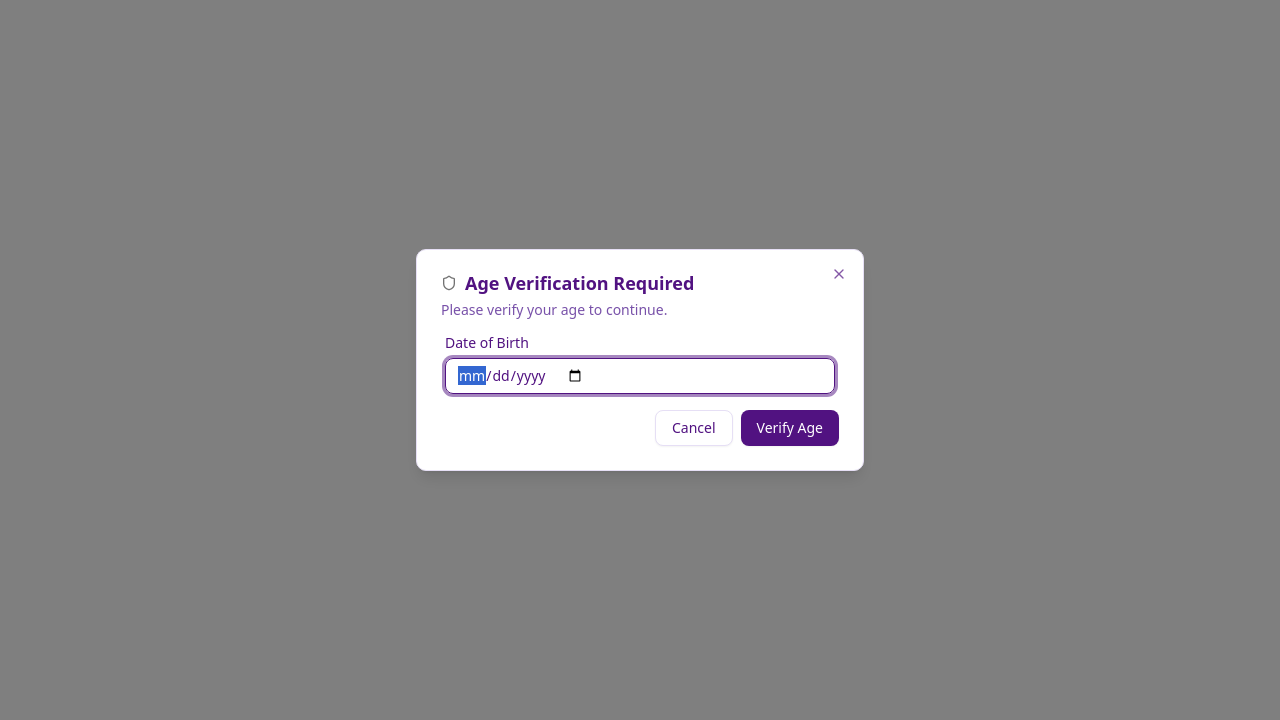
Test case: AgeGate › shows error for empty birthdate
The width and height of the screenshot is (1280, 720).
Don't enter any date, just click verify
Step 1. Click the button "Verify Age" → [790, 428], box [740,410,839,446]
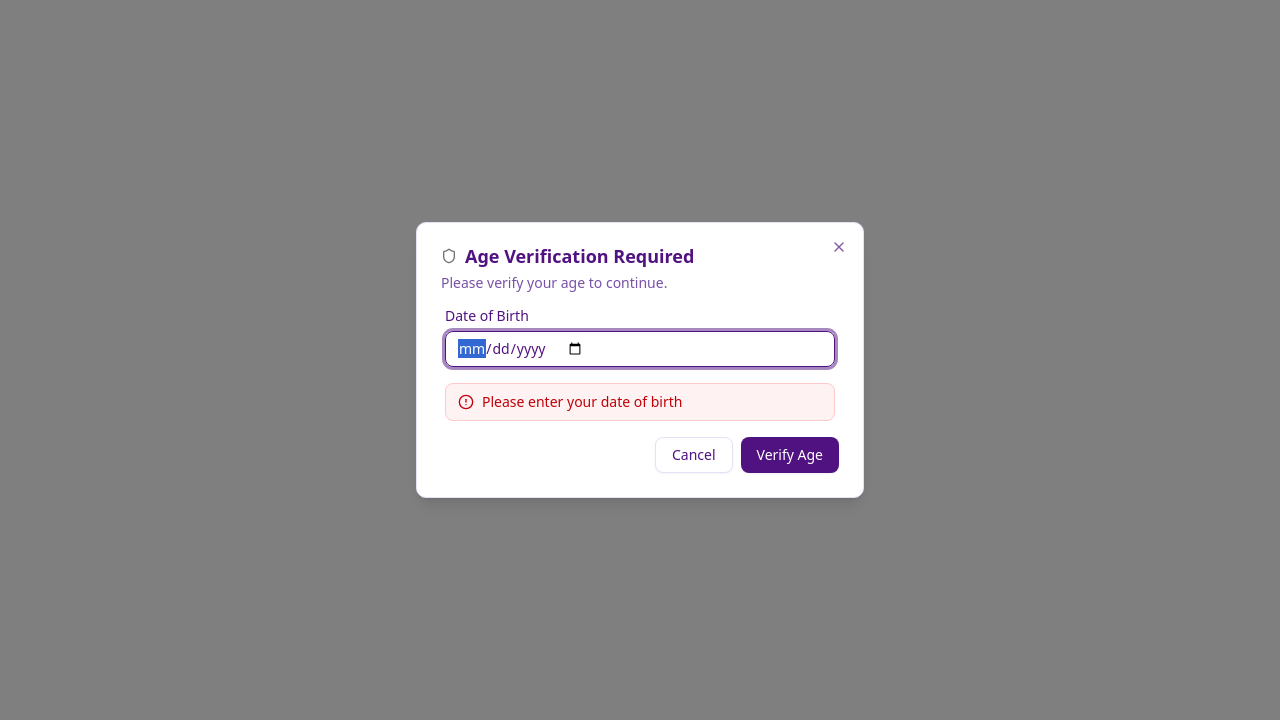
Result: the text "Please enter your date of birth" is shown at [482,392,682,412]
